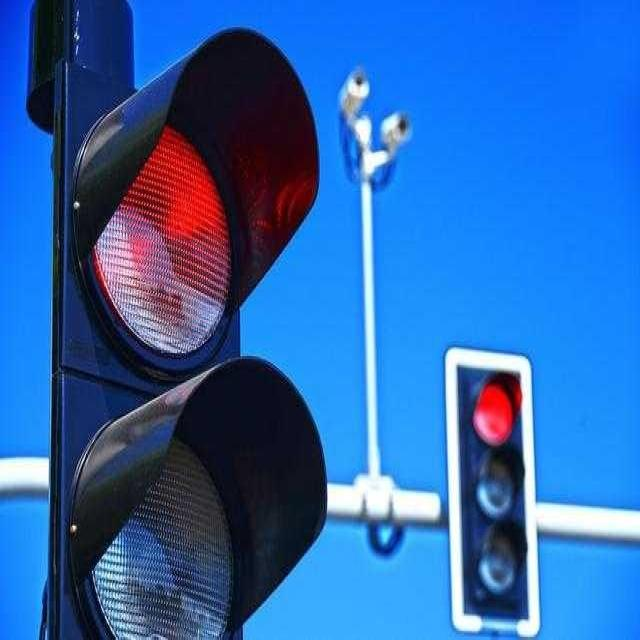Traffic Light -Red-: (44, 20, 333, 640), (434, 335, 546, 640)
